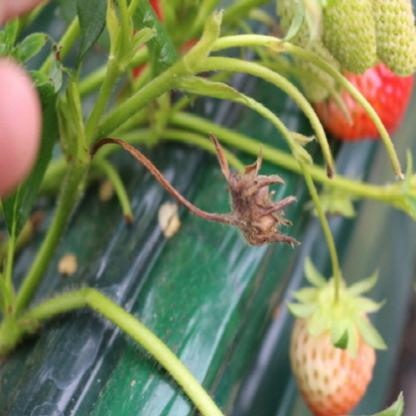Strawberry_Gray_Mold: (182, 134, 303, 247)
